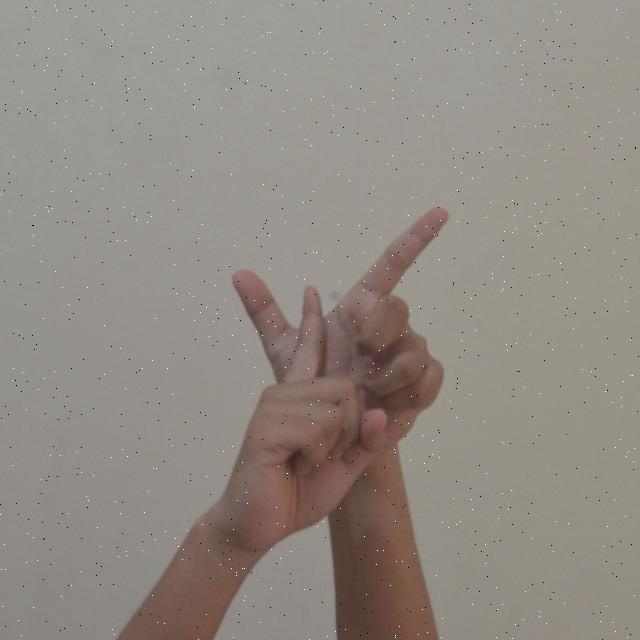Y: (218, 195, 458, 548)
